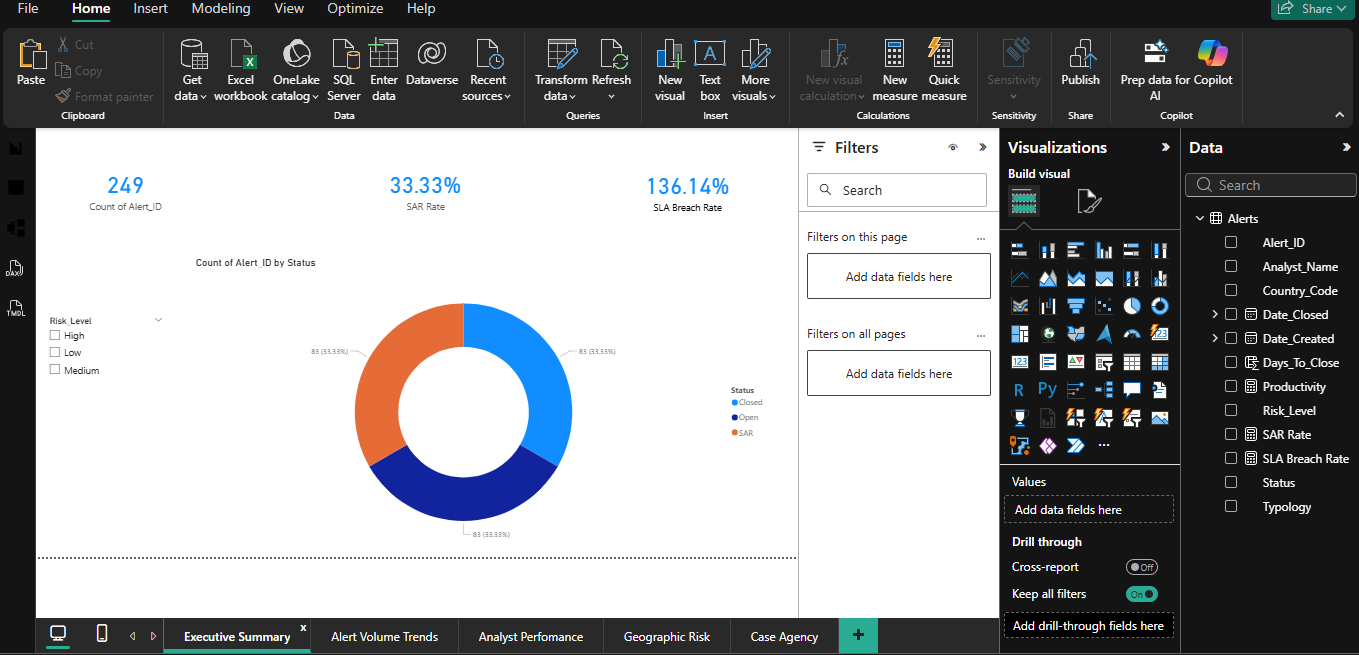

The dashboard page shown, as its layout file describes it:
{"tool":"powerbi","page":{"name":"Executive Summary","canvas":[1280,720],"ordinal":0},"visuals":[{"type":"card","fields":{"Values":["CountNonNull(Alerts.Alert_ID)"]},"box":[10.1,0,280.5,203.3],"z":0},{"type":"card","fields":{"Values":["Alerts.SAR Rate"]},"box":[514,8.4,280.5,186.5],"z":1000},{"type":"donutChart","fields":{"Category":["Alerts.Status"],"Y":["CountNonNull(Alerts.Alert_ID)"]},"box":[263.7,215,970.9,505.6],"z":2000},{"type":"card","fields":{"Values":["Alerts.SLA Breach Rate"]},"box":[954.1,11.8,280.5,183.1],"z":3000},{"type":"slicer","fields":{"Values":["Alerts.Risk_Level"]},"box":[10.1,310.8,215,409.9],"z":4000}]}

Visuals, with their boxes on the page's 1280x720 design canvas (x1, y1, x2, y2). These are canvas units, not pixel positions in the 1359x655 screenshot, which may show the page scaled, cropped or inside an application window:
card - CountNonNull(Alerts.Alert_ID): x1=10, y1=0, x2=291, y2=203
card - Alerts.SAR Rate: x1=514, y1=8, x2=794, y2=195
donutChart - Alerts.Status x CountNonNull(Alerts.Alert_ID): x1=264, y1=215, x2=1235, y2=721
card - Alerts.SLA Breach Rate: x1=954, y1=12, x2=1235, y2=195
slicer - Alerts.Risk_Level: x1=10, y1=311, x2=225, y2=721
